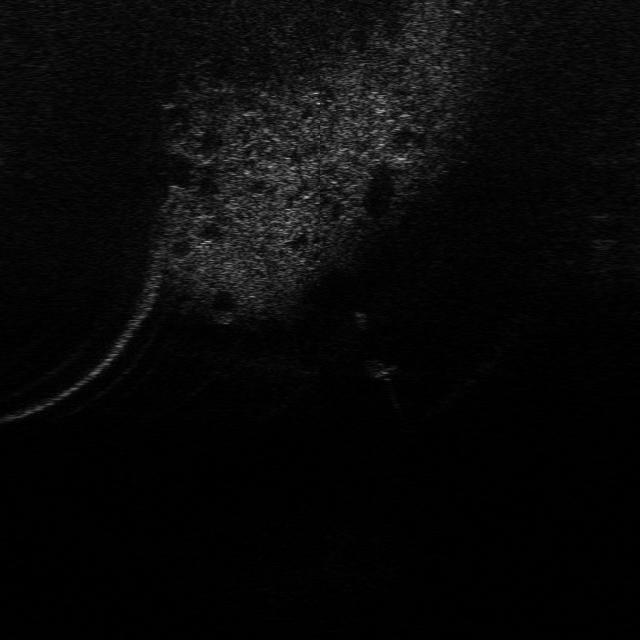cube: (361, 355, 398, 383)
cylinder: (349, 308, 372, 336)
